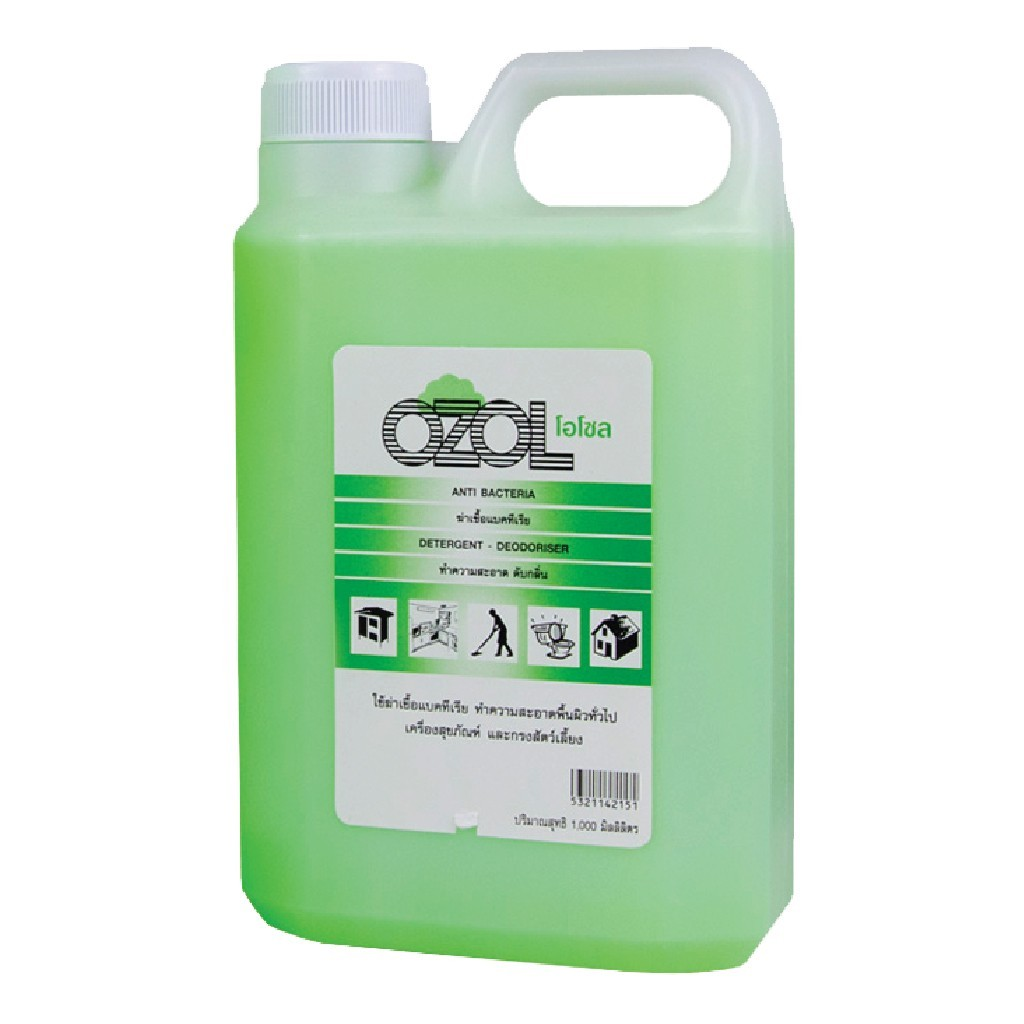Cleaning_solution: (218, 36, 808, 984)
